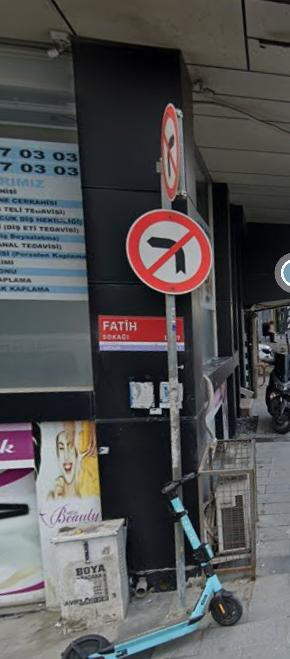leftturnsareforbidden: (131, 211, 209, 286)
